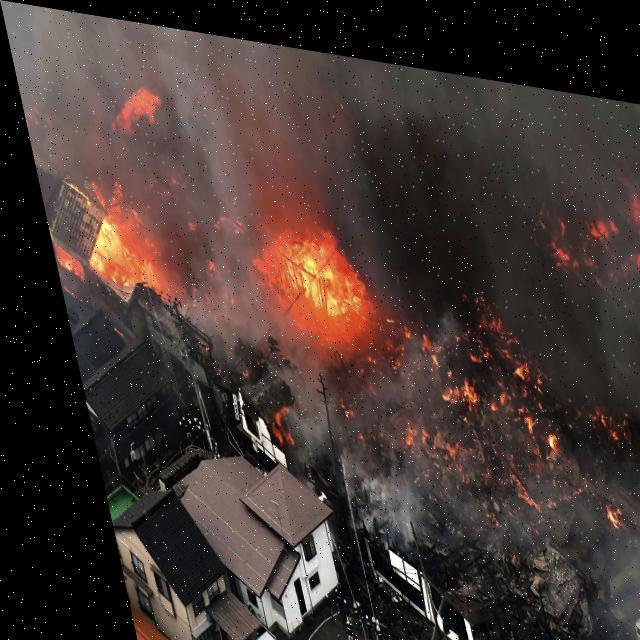Fire: (32, 64, 408, 418), (352, 256, 628, 544), (531, 150, 639, 588)
